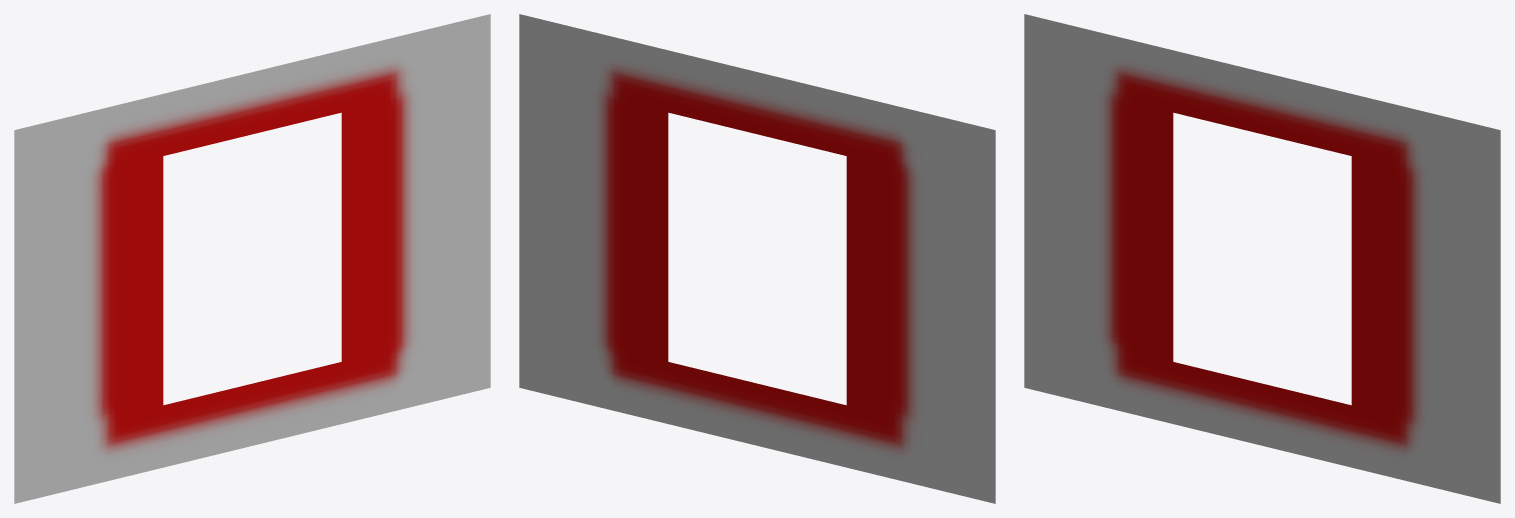
Rendered from wall_window_400x300_11.fbx.
3 renders of one model, left to right at view 1: azimuth 30°, elevation 25°; view 2: azimuth 150°, elevation 25°; view 3: azimuth 330°, elevation 25°, orthographic.
Visible parts, largest first — view 1: wall_window_400x300_11; view 2: wall_window_400x300_11; view 3: wall_window_400x300_11.
Part boxes in pixels (x1,y1,x2,y2): wall_window_400x300_11: [14, 14, 490, 503]; wall_window_400x300_11: [519, 14, 995, 503]; wall_window_400x300_11: [1024, 14, 1500, 503].
Bounding box in the file's own units: 4 × 3 × 0.
